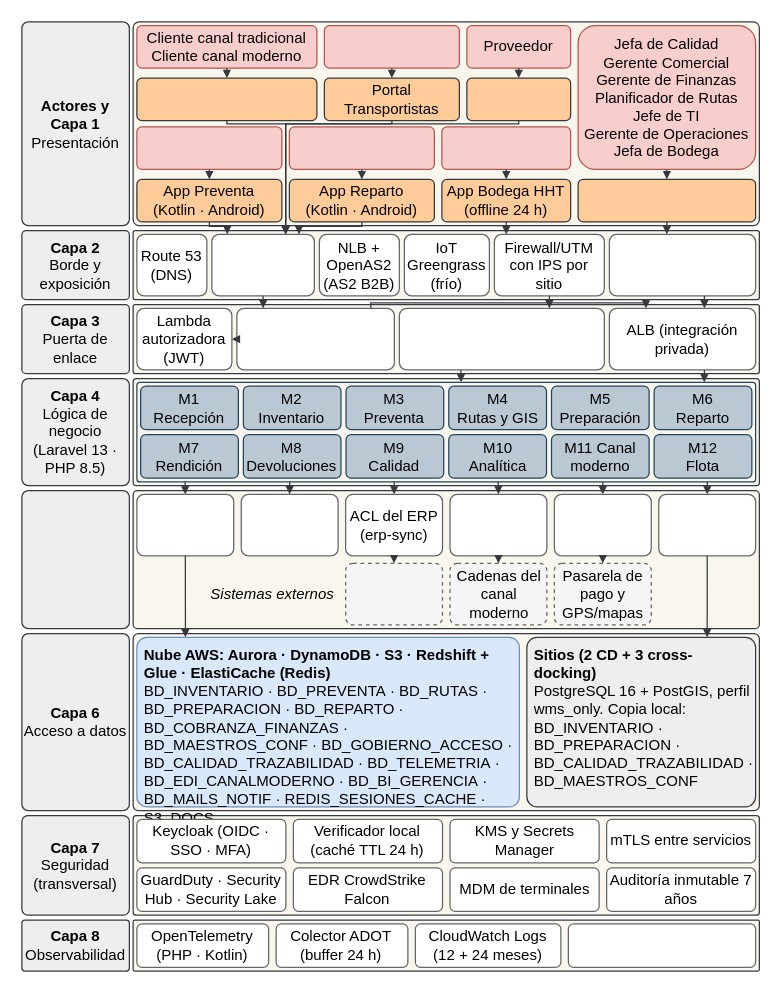
Image size: 781x994. Some labels were removed from this diagram. Here are the shapes that lost their labels. From the top down, the centre of each, then its label:
At point (391, 46): "Empresa transportista".
At point (226, 99): "Portal Clientes (Angular · PWA)".
At point (518, 99): "Portal Proveedores".
At point (209, 147): "Preventista".
At point (361, 147): "Conductor propio Conductor externo".
At point (506, 147): "Preparador".
At point (666, 200): "Consolas internas (Rutas, Calidad, BI, TI)".
At point (262, 264): "CloudFront + WAF + Shield Advanced".
At point (682, 264): "Verified Access (consolas)".
At point (315, 338): "Amazon API Gateway REST (/v1 · /sync/v1)".
At point (501, 338): "Puerta de API local del sitio (WMS: M1, M2, M5, M8, M9)".
At point (185, 524): "SQS FIFO + DLQ (excep- ciones)".
At point (289, 524): "SNS (eventos y alertas)".
At point (498, 524): "Hub EDI GS1 (EANCOM · EPCIS)".
At point (602, 524): "Adaptadores de pago y mapas".
At point (707, 524): "RabbitMQ por sitio (buffer 24 h)".
At point (75, 559): "Capa 5 Integración y eventos".
At point (393, 593): "ERP 2017 (DTE) y SII".
At point (661, 945): "CloudWatch: métricas 13 meses, trazas y tableros".
